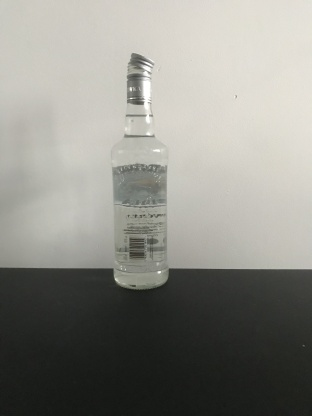nakretka: (124, 50, 155, 104)
